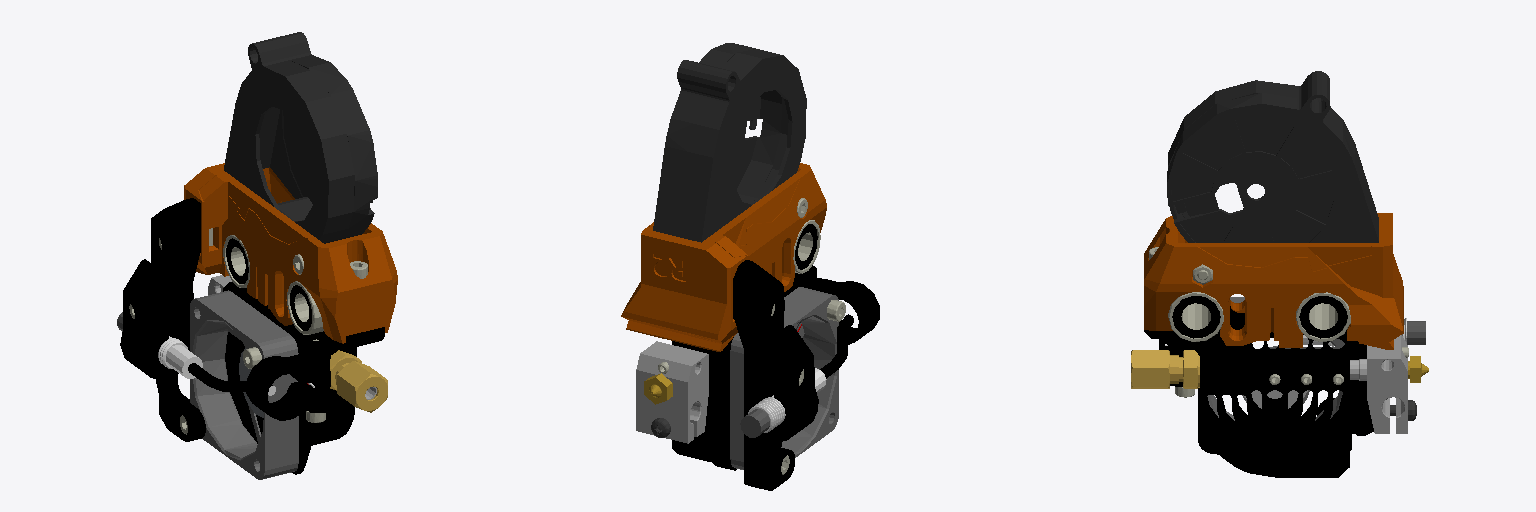
Rendered from Mini_Extruder.obj.
The picture shows the model from 3 angles: view 1: azimuth 30°, elevation 25°; view 2: azimuth 150°, elevation 25°; view 3: azimuth 270°, elevation 25°; orthographic projection.
Visible parts, largest first — view 1: Prusa_Mini; view 2: Prusa_Mini; view 3: Prusa_Mini.
Boxes of the visible parts, x1=… form: Prusa_Mini: x1=117, y1=32, x2=397, y2=479; Prusa_Mini: x1=621, y1=43, x2=879, y2=490; Prusa_Mini: x1=1131, y1=71, x2=1428, y2=477.
Size of the model in its own units: 52.4 by 114 by 79.66.